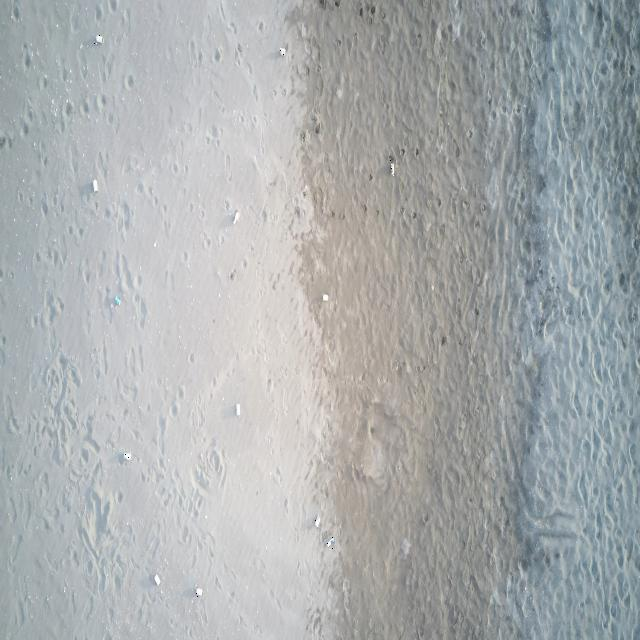Garbage: (324, 536, 335, 547), (232, 209, 239, 223), (121, 451, 131, 460), (313, 515, 320, 527), (152, 573, 159, 584), (94, 34, 101, 44), (91, 179, 96, 192), (112, 296, 120, 304), (235, 404, 240, 415), (280, 47, 286, 55), (390, 161, 393, 175), (195, 587, 200, 595), (322, 292, 327, 300)
